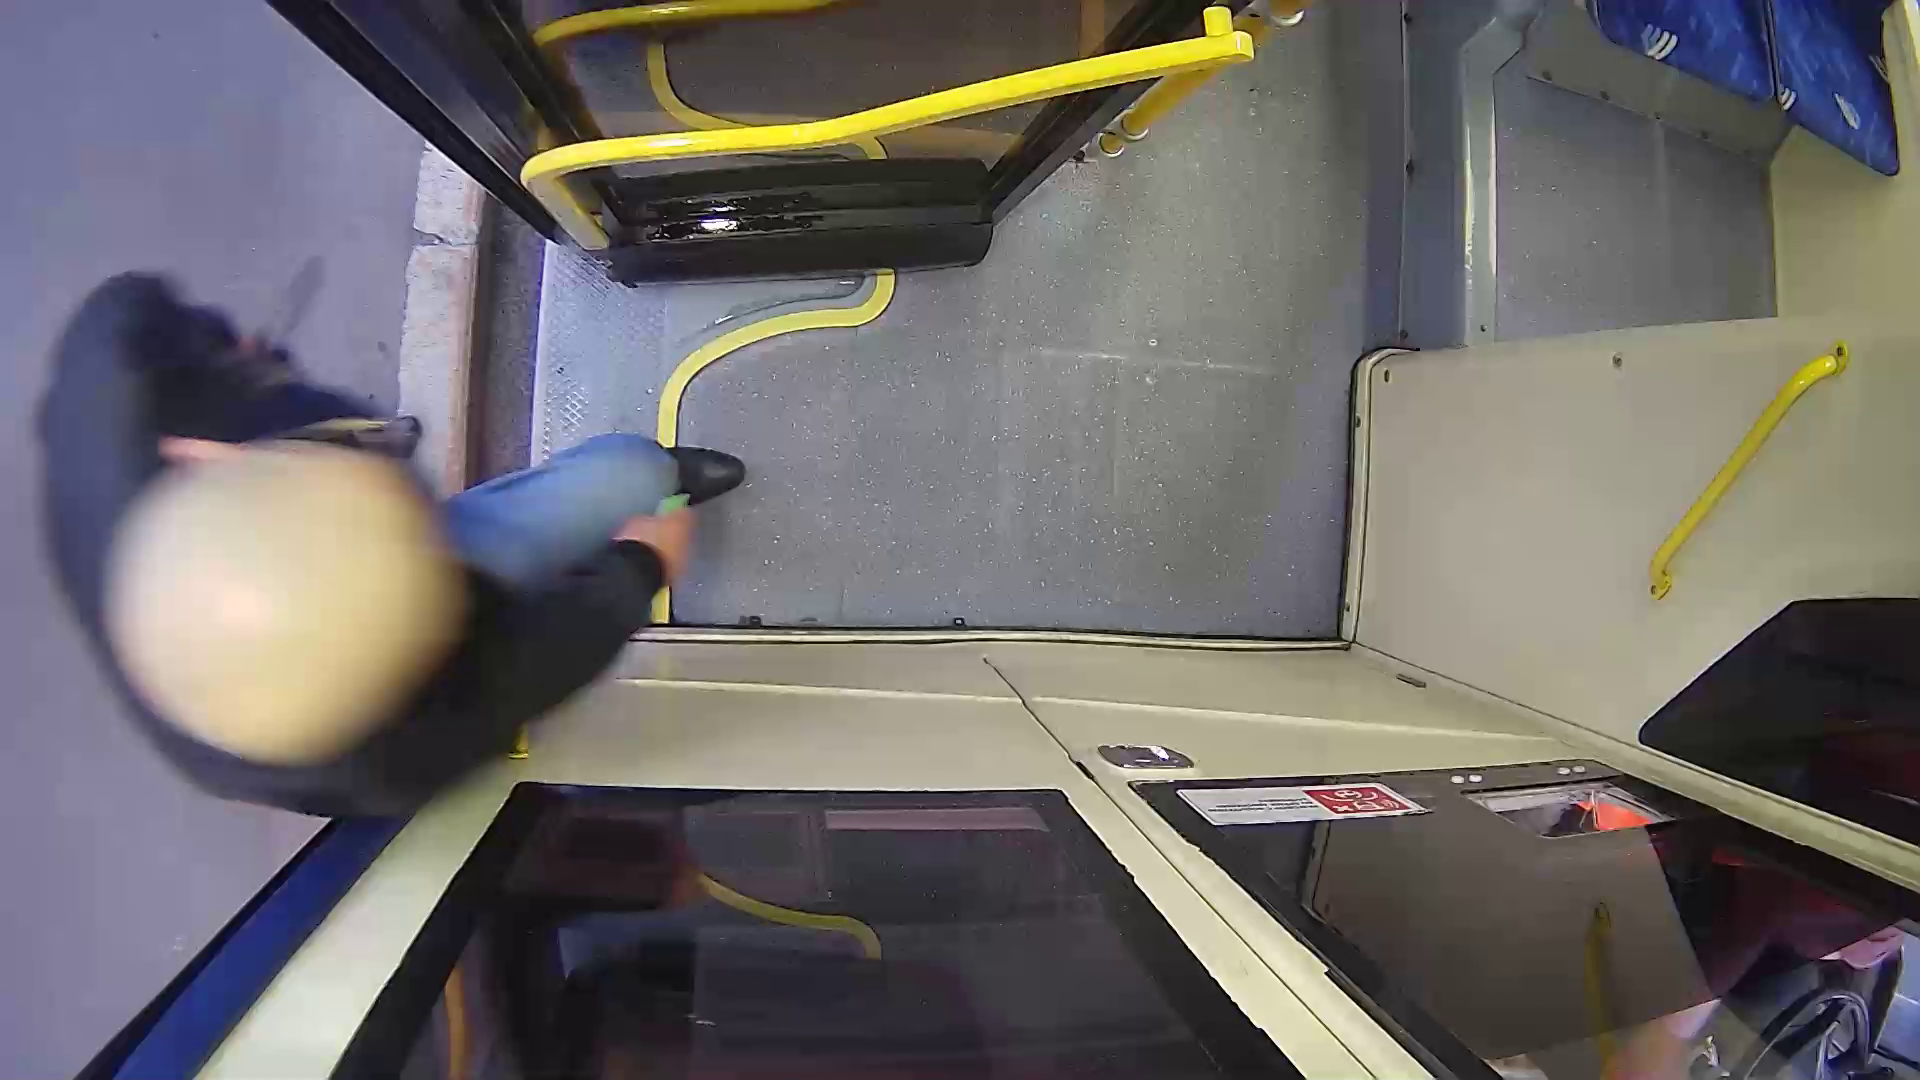person: (18, 265, 721, 776)
